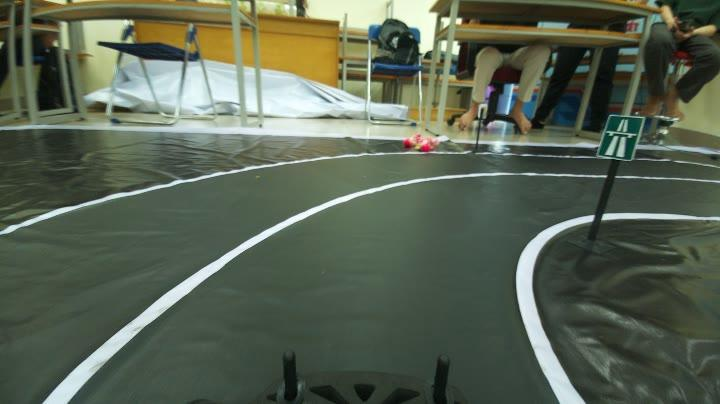highway_entry: (600, 109, 645, 167)
